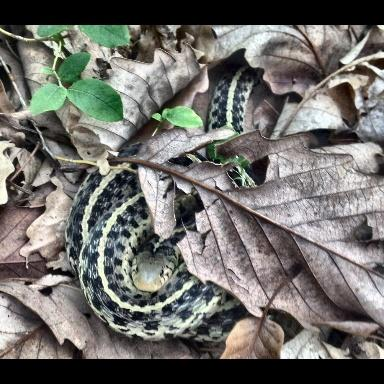snake: (0, 25, 384, 359)
